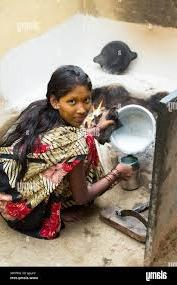Human: (0, 64, 126, 232)
